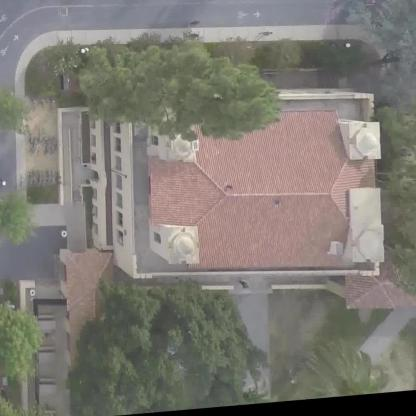Pedestrian: (258, 28, 274, 42), (187, 19, 202, 31), (189, 31, 200, 43)
